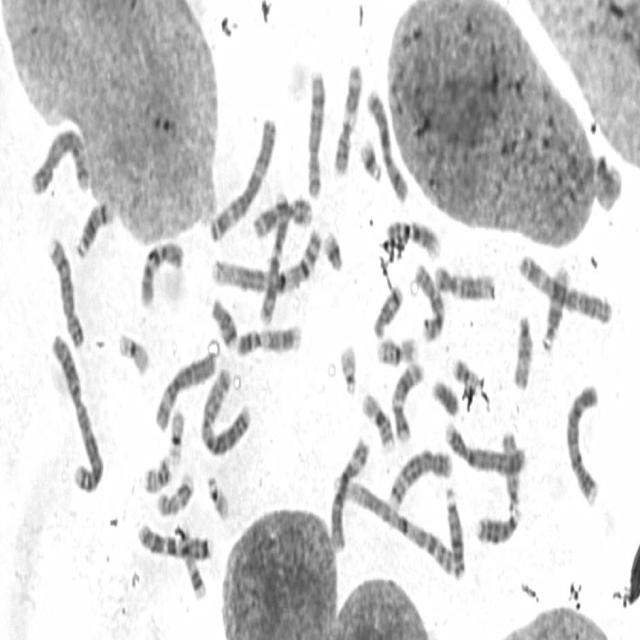A1: (331, 468, 459, 578), (208, 220, 324, 296)
A2: (47, 326, 105, 495), (198, 360, 252, 458)
A3: (207, 108, 279, 244), (516, 247, 615, 326)
B4: (562, 378, 602, 508), (442, 416, 527, 476)
B5: (27, 121, 91, 198), (386, 442, 454, 512)
C10: (136, 233, 185, 309), (412, 258, 447, 344)
C11: (330, 55, 364, 178), (250, 190, 314, 240)
C12: (388, 354, 425, 444), (431, 257, 497, 303)
C6: (151, 343, 218, 434), (327, 430, 371, 552)
C7: (257, 184, 291, 327), (136, 516, 216, 564)
C8: (44, 230, 86, 350), (304, 61, 328, 201)
C9: (233, 318, 304, 358), (383, 212, 441, 260)
D13: (442, 479, 467, 580), (473, 500, 523, 546)
D14: (539, 259, 572, 352), (72, 194, 116, 261)
D15: (510, 307, 534, 391), (497, 426, 521, 508)
E16: (359, 385, 397, 451), (373, 329, 419, 366)
E17: (177, 524, 208, 602), (154, 466, 196, 519)
E18: (370, 277, 405, 340), (208, 292, 239, 349)
F19: (115, 325, 152, 376), (165, 402, 186, 466)
F20: (141, 448, 173, 496), (450, 352, 480, 390)
G21: (356, 131, 384, 184), (320, 223, 345, 274)
G22: (204, 468, 232, 521), (336, 336, 359, 398)
X: (364, 81, 410, 205)
Y: (429, 372, 461, 418)
